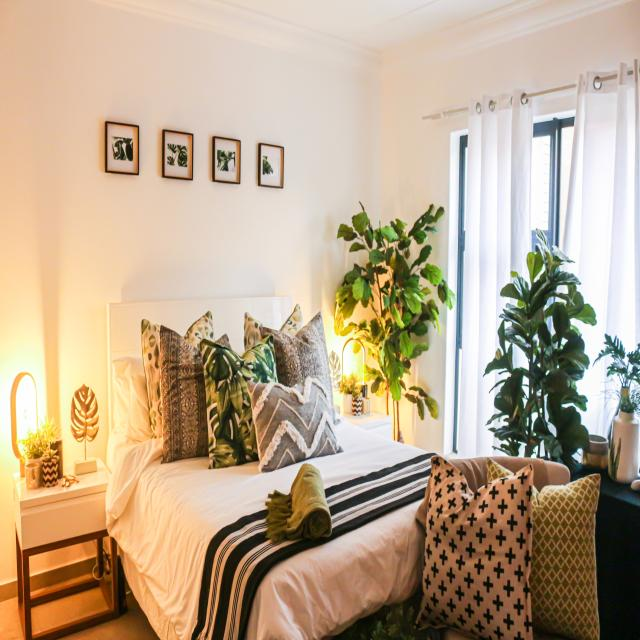floor: (56, 583, 161, 640), (30, 585, 109, 633), (30, 572, 94, 597), (1, 594, 26, 640)
